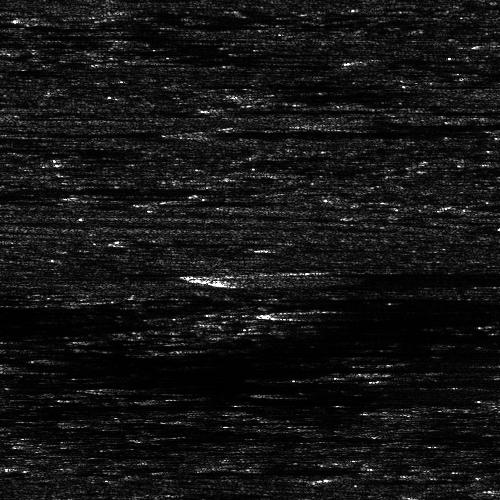rock: (117, 268, 304, 285), (311, 493, 478, 500), (267, 119, 382, 128), (239, 91, 312, 100), (0, 363, 46, 374), (445, 39, 500, 48), (195, 105, 258, 112), (157, 129, 220, 136), (0, 180, 9, 193)
shadow: (211, 268, 500, 285), (0, 180, 256, 193), (5, 363, 260, 374), (189, 129, 500, 136), (325, 119, 500, 128), (276, 91, 399, 100), (227, 105, 349, 112), (395, 493, 500, 500)
